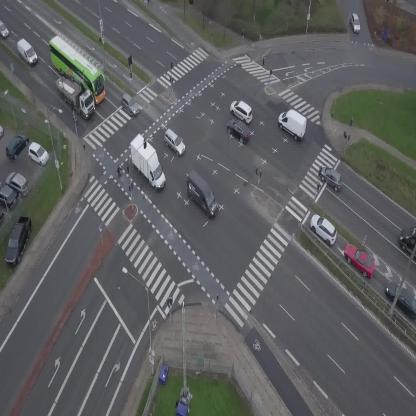bicycle: (115, 164, 125, 182), (145, 0, 151, 5)
bus: (39, 33, 115, 105)
car: (339, 239, 381, 282), (304, 210, 342, 248), (222, 114, 256, 146), (315, 162, 348, 193), (226, 96, 257, 126), (159, 128, 189, 158), (117, 91, 143, 118), (349, 12, 362, 33), (0, 20, 9, 38)
lorry: (47, 66, 103, 121), (124, 129, 168, 195), (176, 169, 227, 219), (272, 104, 313, 143), (12, 37, 42, 66), (399, 228, 416, 258)
